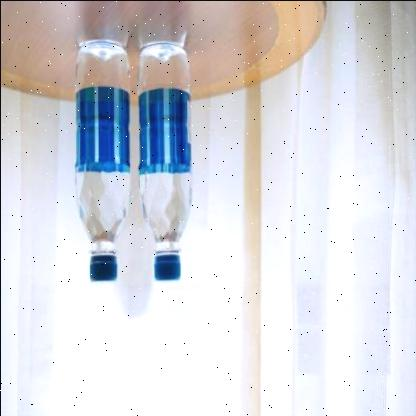Plastic Bottle: (136, 41, 190, 280), (75, 39, 127, 281)
